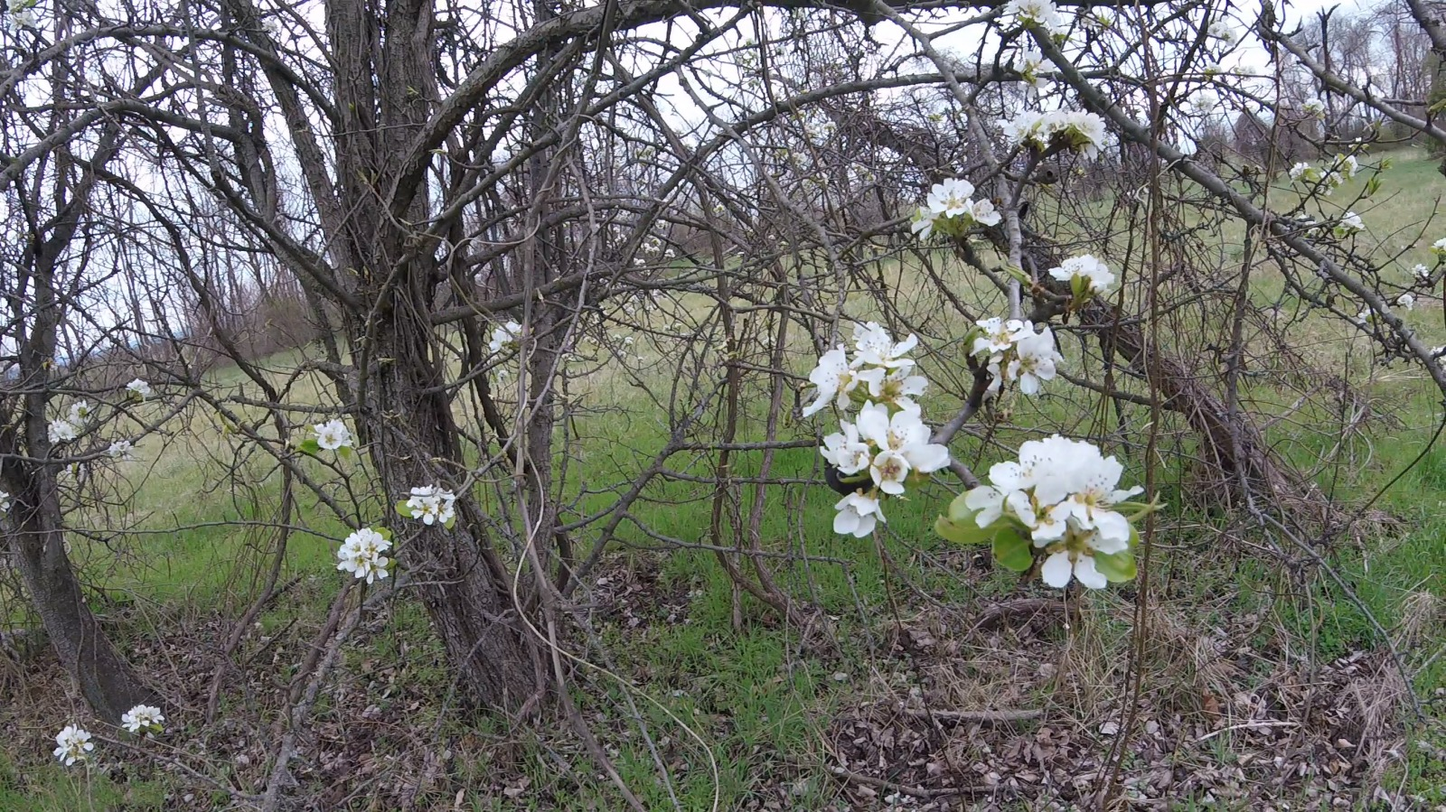flower: (966, 434, 1144, 590), (803, 322, 951, 495), (970, 317, 1066, 401), (910, 178, 1002, 248), (1004, 100, 1119, 152), (337, 527, 398, 584), (1014, 46, 1061, 107), (1048, 254, 1116, 294), (48, 397, 99, 443), (834, 492, 886, 537), (407, 488, 456, 525), (53, 723, 94, 766), (1002, 0, 1061, 29), (303, 417, 353, 450), (122, 705, 165, 733), (107, 438, 143, 462), (487, 326, 512, 356), (126, 378, 155, 398), (503, 318, 522, 334), (410, 484, 433, 495), (1013, 98, 1019, 105)
